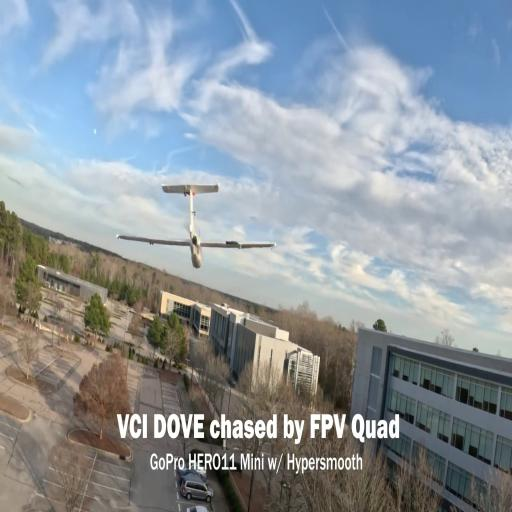uav: (116, 178, 279, 281)
